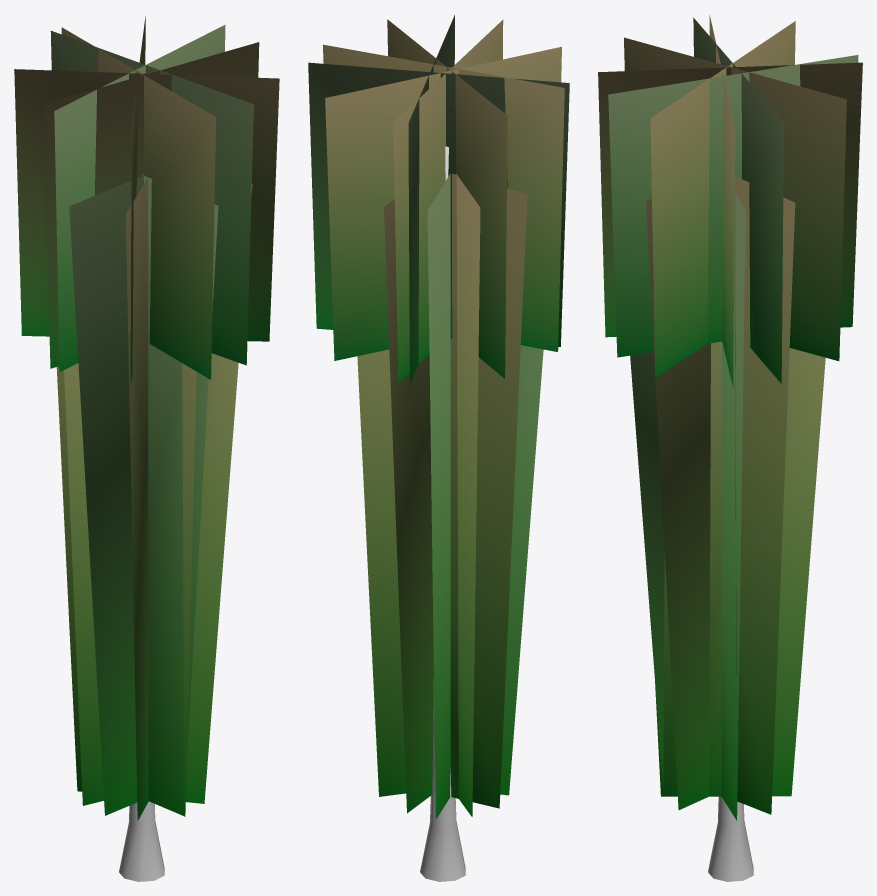
Rendered from S_Palm_2_3.fbx.
The picture shows the model from 3 angles, left to right: view 1: azimuth 30°, elevation 25°; view 2: azimuth 150°, elevation 25°; view 3: azimuth 270°, elevation 25°; orthographic projection.
Parts seen in each view (by area): view 1: Atlas_1, Atlas_0; view 2: Atlas_1, Atlas_0; view 3: Atlas_1, Atlas_0.
Boxes of the visible parts, x1=… form: Atlas_1: x1=14, y1=16, x2=279, y2=820; Atlas_0: x1=119, y1=801, x2=164, y2=881; Atlas_1: x1=308, y1=15, x2=569, y2=818; Atlas_0: x1=420, y1=146, x2=465, y2=881; Atlas_1: x1=598, y1=15, x2=862, y2=820; Atlas_0: x1=708, y1=796, x2=753, y2=881.
Bounding box in the file's own units: 280 × 938 × 280.
